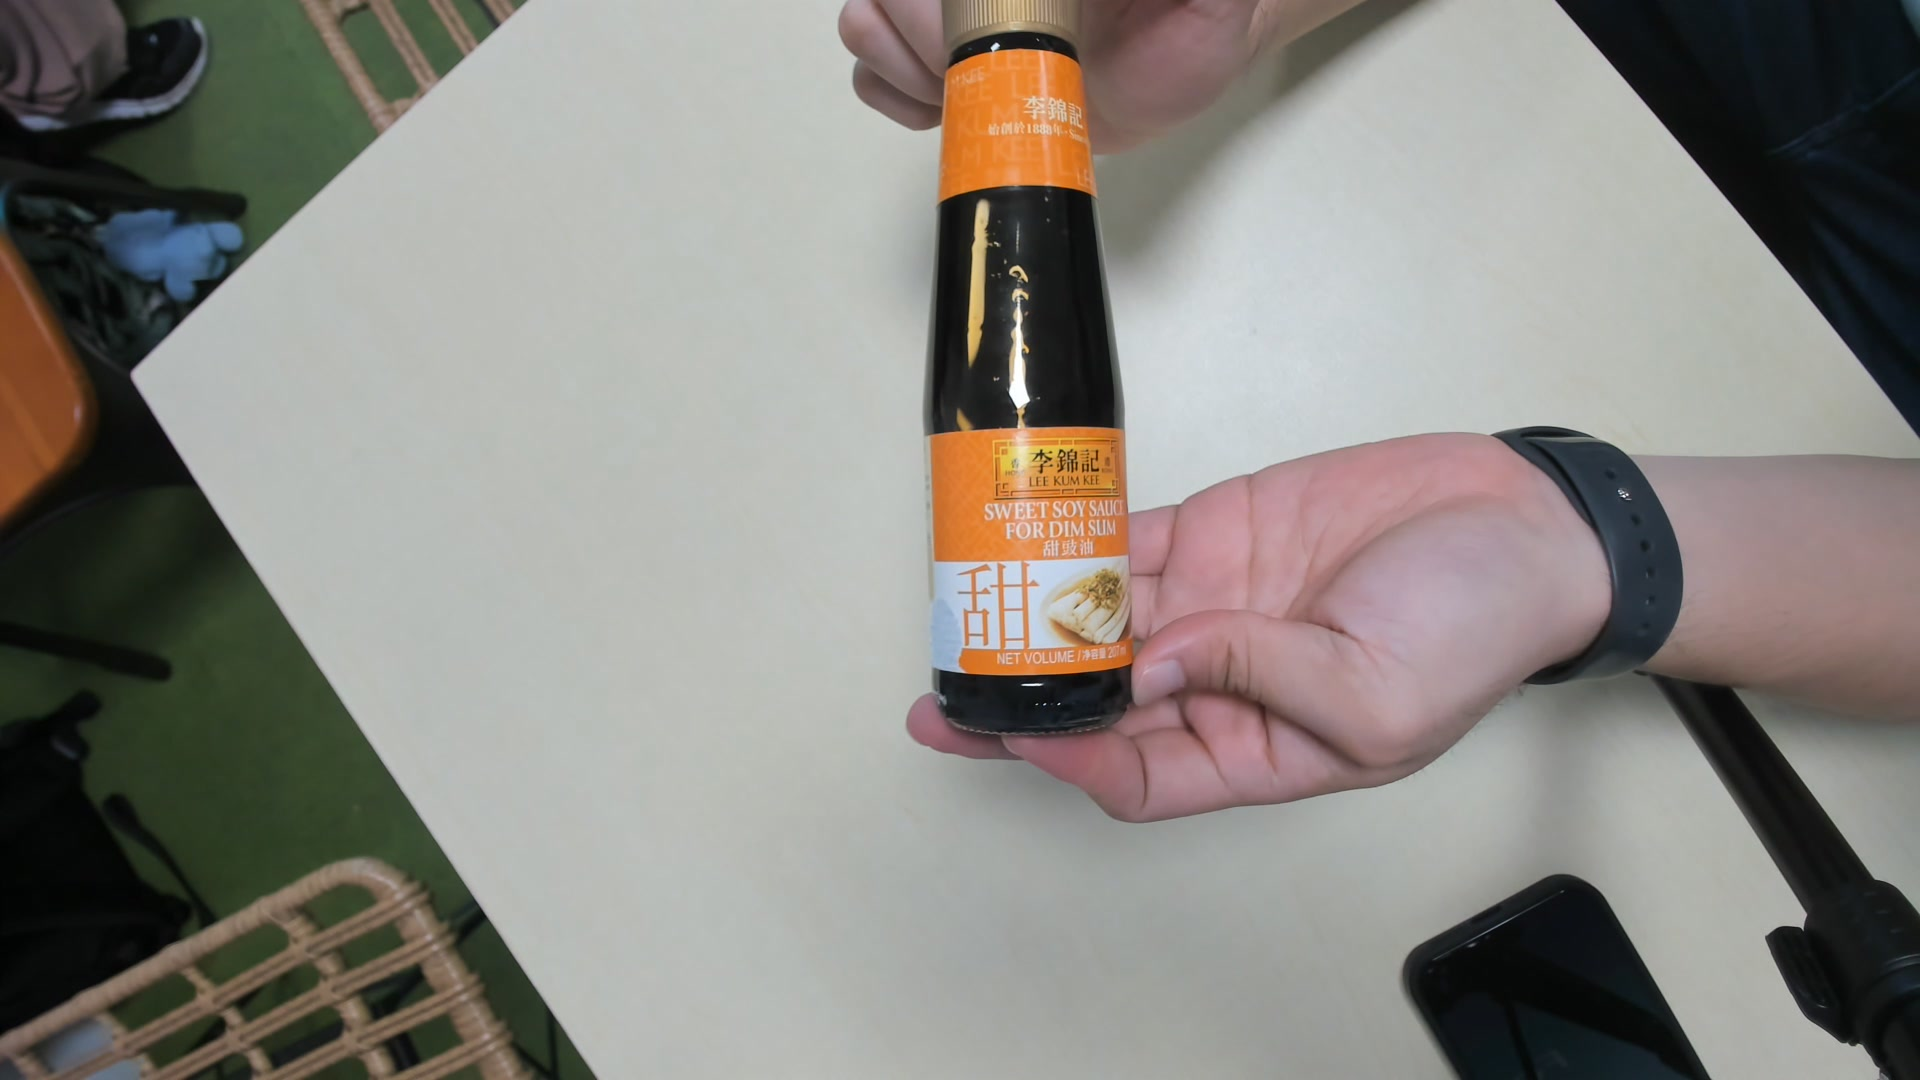OtherSauceDressing_200-299g_NonHalal_NonHealthy: (924, 1, 1135, 733)
